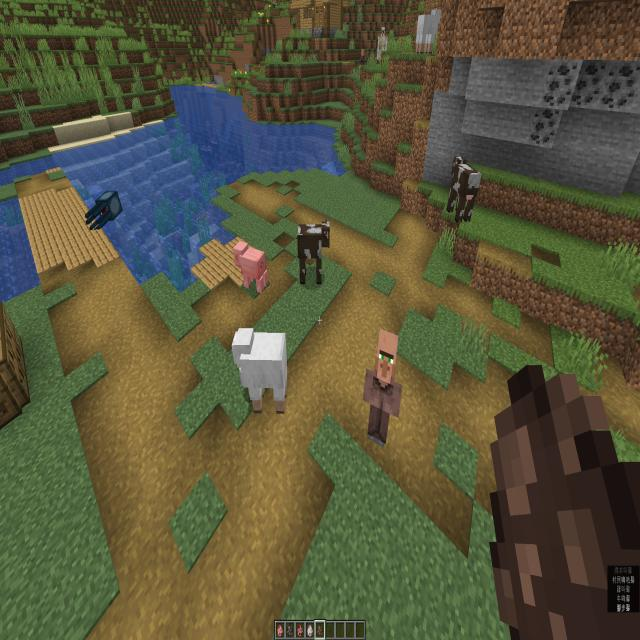cow: (448, 147, 481, 232), (294, 216, 331, 286)
iron golem: (374, 26, 392, 65)
pig: (228, 238, 272, 298)
